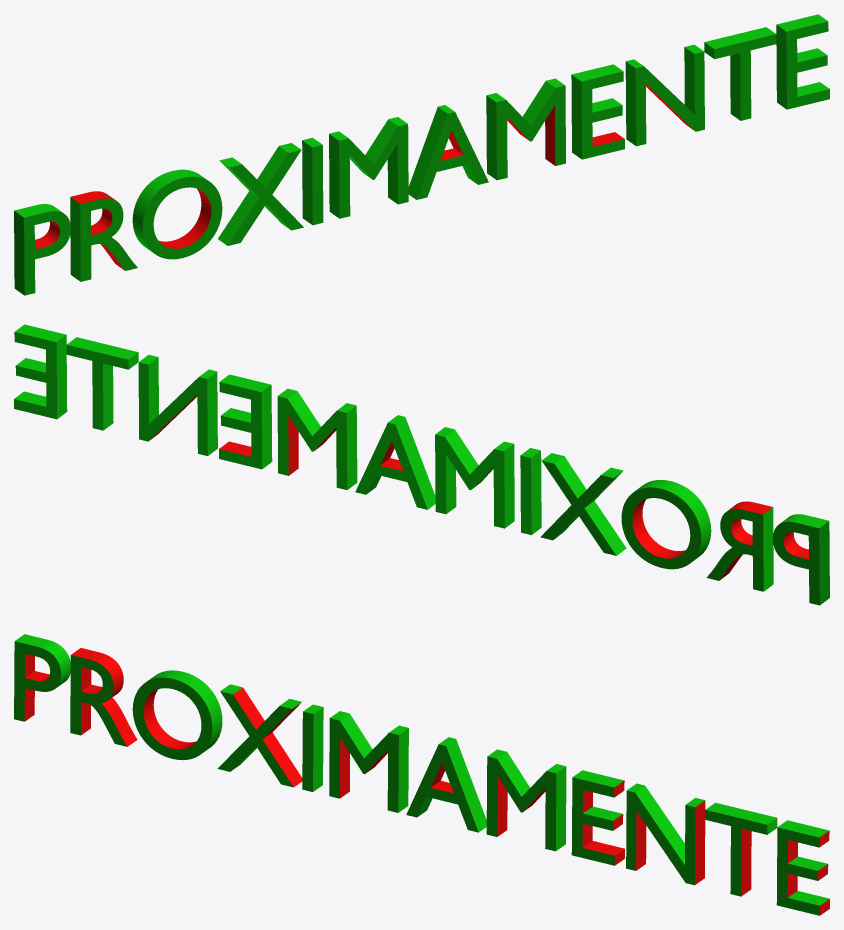
File: prox.glb
The picture shows the model from 3 angles, top to bottom: view 1: azimuth 30°, elevation 25°; view 2: azimuth 150°, elevation 25°; view 3: azimuth 330°, elevation 25°; orthographic projection.
Visible parts, largest first — view 1: root; view 2: root; view 3: root.
Boxes of the visible parts, bbox=[...] form: root: bbox=[14, 14, 829, 295]; root: bbox=[14, 324, 829, 605]; root: bbox=[14, 634, 829, 915].
Bounding box in the file's own units: 7.41 × 0.7021 × 0.1694.
